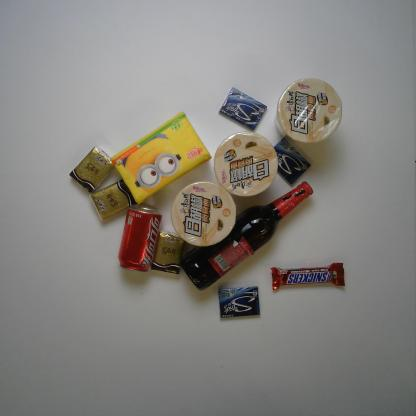Alcohol: (176, 178, 315, 294)
Chocolate: (267, 260, 349, 293)
Drink: (116, 202, 164, 274)
Gum: (214, 84, 269, 133), (270, 133, 312, 189), (215, 281, 263, 320)
Instant Noodles: (167, 179, 239, 251), (272, 75, 346, 145), (210, 128, 280, 200)
Tissue: (108, 108, 214, 206), (67, 141, 116, 196), (87, 177, 139, 223), (148, 228, 186, 277)
